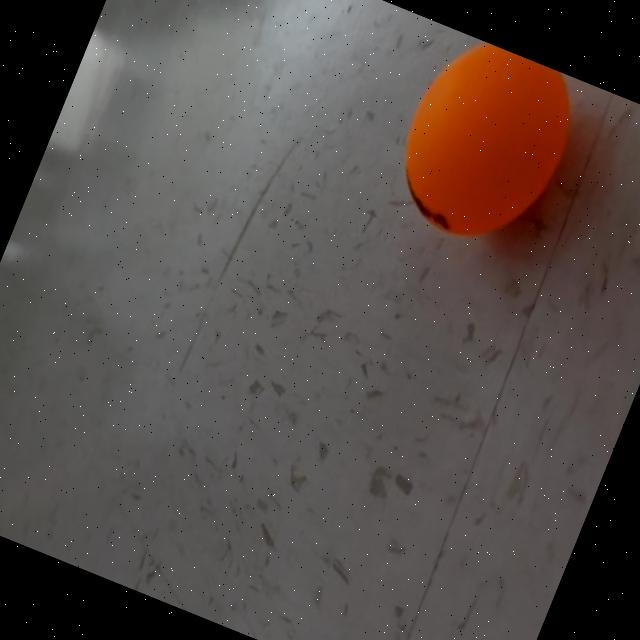ping-pong-ball: (377, 27, 596, 266)
